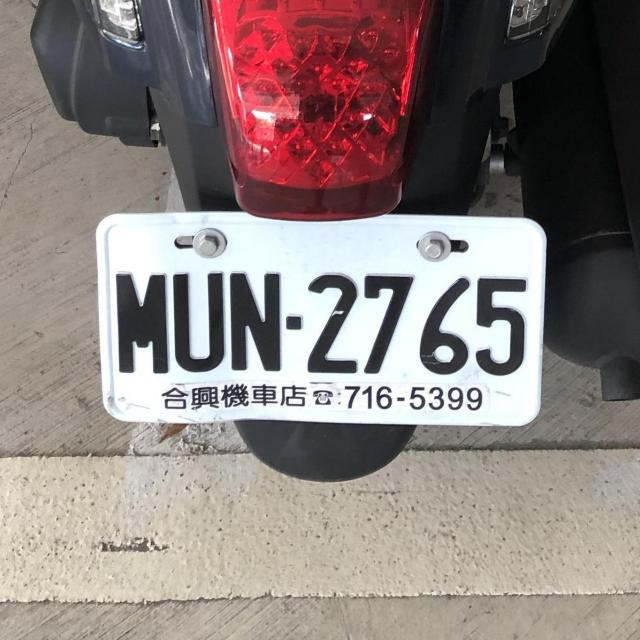W: (90, 190, 554, 445)
